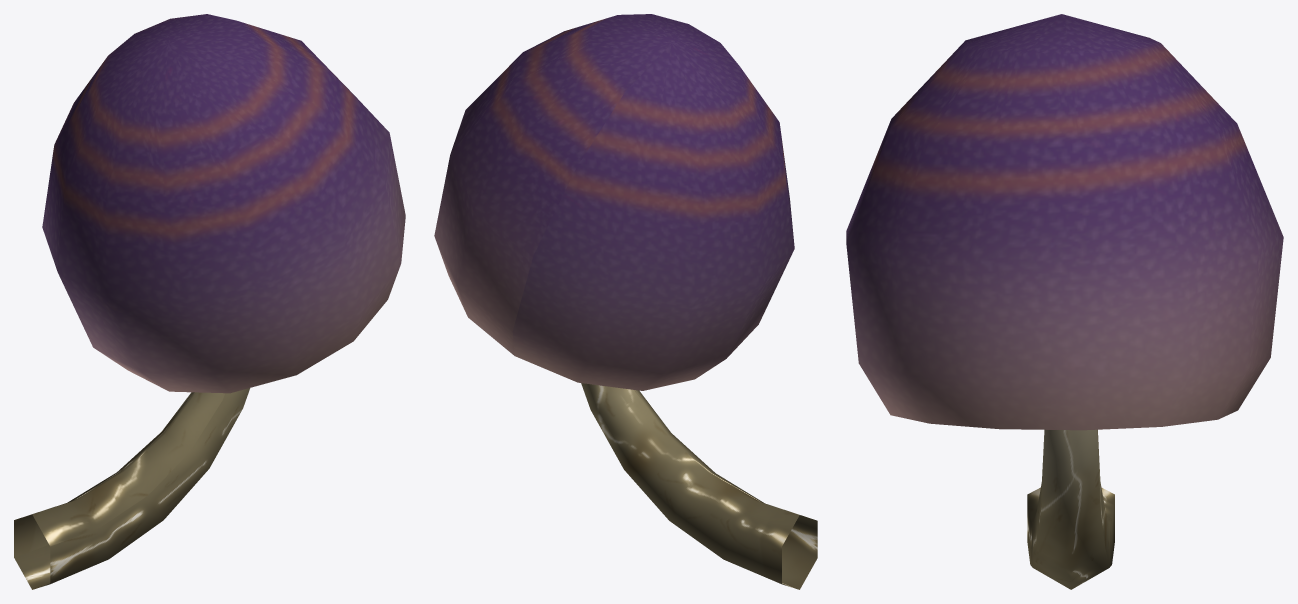
The model's file is lamp_shroom.FBX.
The picture shows the model from 3 angles, left to right: view 1: azimuth 30°, elevation 25°; view 2: azimuth 150°, elevation 25°; view 3: azimuth 270°, elevation 25°; orthographic projection. The views are drawn at different scales.
Parts seen in each view (by area): view 1: Cylinder002; view 2: Cylinder002; view 3: Cylinder002.
Part boxes in pixels (x1,y1,x2,y2): Cylinder002: [14, 14, 405, 589]; Cylinder002: [434, 14, 817, 589]; Cylinder002: [846, 14, 1283, 589].
Bounding box in the file's own units: 158 × 225 × 141.
1 material, 1 textured.
